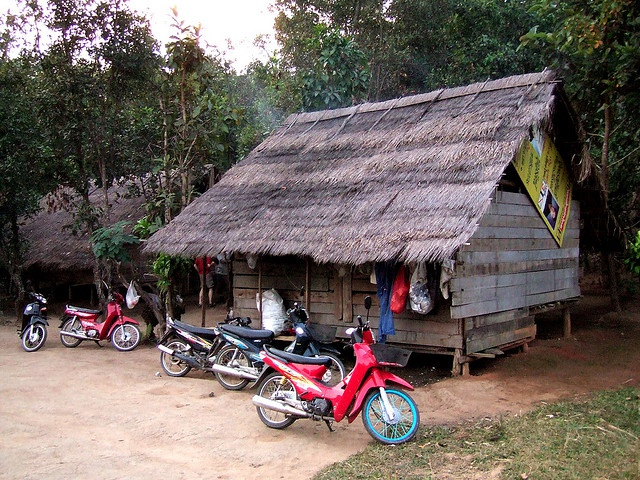non-vehicle: (254, 295, 419, 442), (211, 285, 346, 388), (155, 306, 251, 375), (57, 275, 141, 350), (15, 276, 50, 352)
